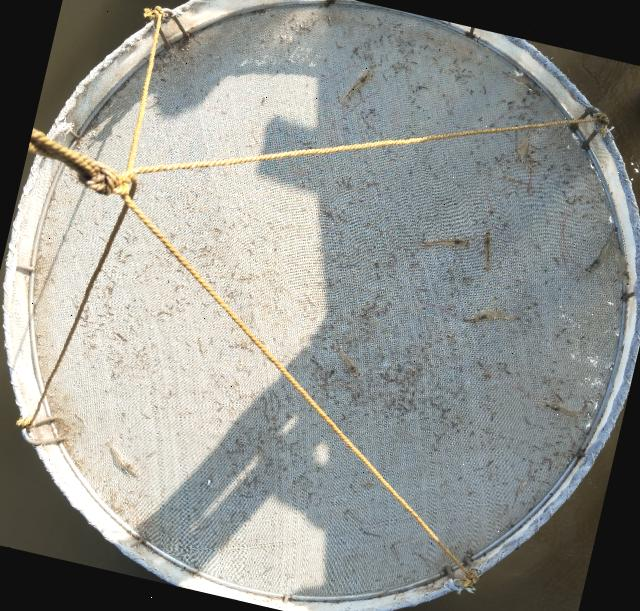shrimp: (583, 226, 617, 275), (336, 70, 373, 108), (104, 438, 139, 475), (501, 71, 541, 97), (332, 343, 360, 379), (541, 398, 587, 417), (519, 122, 535, 170), (469, 309, 519, 322), (423, 238, 470, 247), (484, 228, 490, 271)
